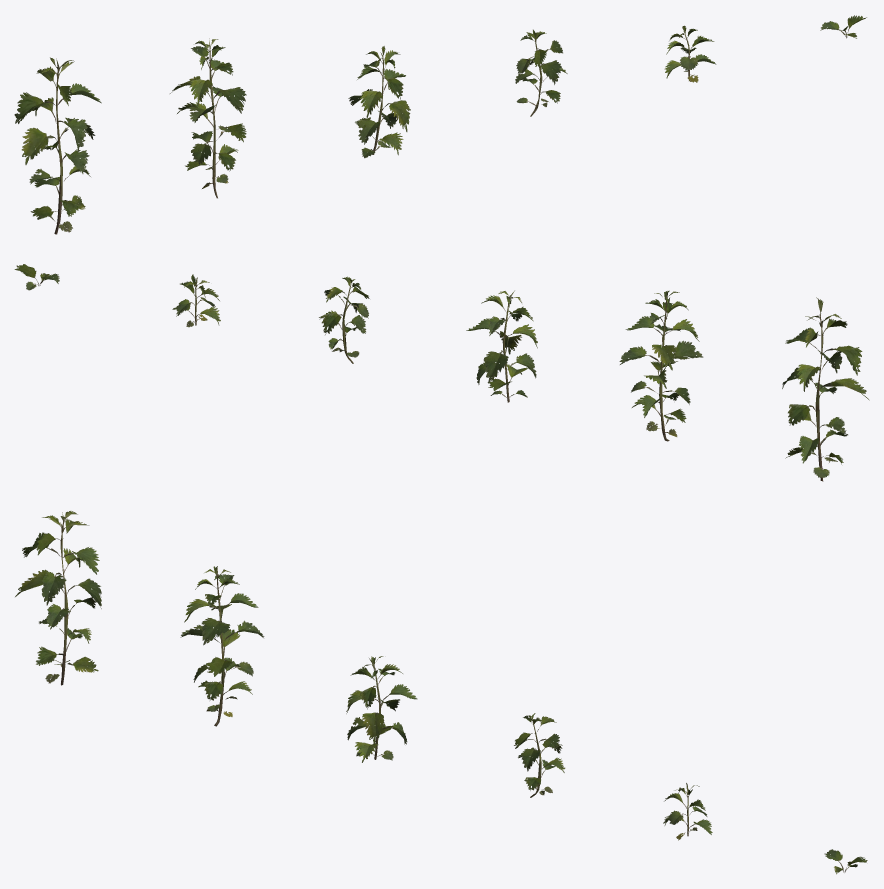
The model's file is nettle.glb.
3 views of the same model, one above another, from view 1: azimuth 30°, elevation 25°; view 2: azimuth 150°, elevation 25°; view 3: azimuth 330°, elevation 25° (orthographic).
Visible parts, largest first — view 1: nettle_plant_tall_a_LOD0, nettle_plant_tall_b_LOD0, nettle_plant_medium_a_LOD0, nettle_plant_medium_b_LOD0, nettle_plant_small_a_LOD0; view 2: nettle_plant_tall_a_LOD0, nettle_plant_tall_b_LOD0, nettle_plant_medium_a_LOD0, nettle_plant_medium_b_LOD0, nettle_plant_small_a_LOD0; view 3: nettle_plant_tall_a_LOD0, nettle_plant_tall_b_LOD0, nettle_plant_medium_a_LOD0, nettle_plant_medium_b_LOD0, nettle_plant_small_a_LOD0.
Boxes of the visible parts, left/top/right/bottom form: nettle_plant_tall_a_LOD0: left=14, top=57, right=101, bottom=234; nettle_plant_tall_b_LOD0: left=170, top=38, right=246, bottom=198; nettle_plant_medium_a_LOD0: left=348, top=46, right=410, bottom=158; nettle_plant_medium_b_LOD0: left=515, top=29, right=567, bottom=116; nettle_plant_small_a_LOD0: left=664, top=25, right=716, bottom=82; nettle_plant_tall_a_LOD0: left=782, top=297, right=869, bottom=481; nettle_plant_tall_b_LOD0: left=619, top=290, right=703, bottom=441; nettle_plant_medium_a_LOD0: left=466, top=290, right=537, bottom=402; nettle_plant_medium_b_LOD0: left=319, top=276, right=369, bottom=363; nettle_plant_small_a_LOD0: left=172, top=274, right=220, bottom=327; nettle_plant_tall_a_LOD0: left=15, top=511, right=101, bottom=685; nettle_plant_tall_b_LOD0: left=180, top=566, right=264, bottom=726; nettle_plant_medium_a_LOD0: left=346, top=656, right=417, bottom=762; nettle_plant_medium_b_LOD0: left=514, top=713, right=565, bottom=797; nettle_plant_small_a_LOD0: left=663, top=783, right=712, bottom=840.
Bounding box in the file's own units: 1.08 × 0.2148 × 0.0947.
Materials: 1 (1 with a texture image).
